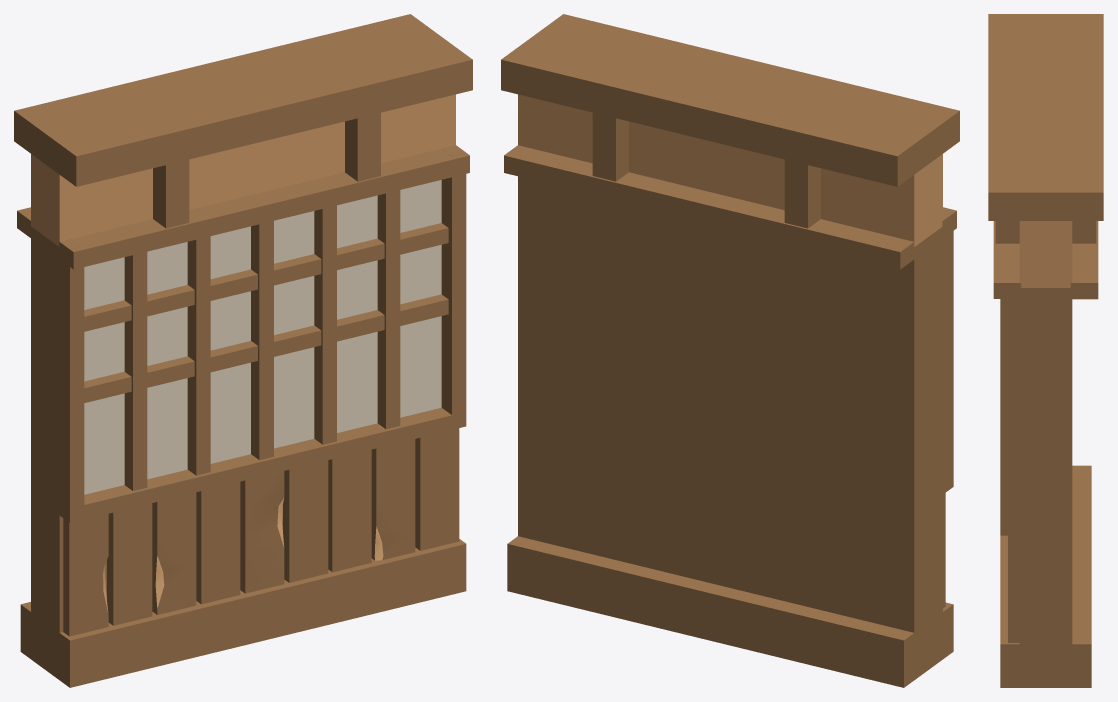
Rendered from Shoji (1).fbx.
3 views of the same model, side by side, from view 1: azimuth 30°, elevation 25°; view 2: azimuth 150°, elevation 25°; view 3: azimuth 270°, elevation 25° (orthographic). The views are drawn at different scales.
Parts seen in each view (by area): view 1: Wall_Shoji; view 2: Wall_Shoji; view 3: Wall_Shoji.
Part boxes in pixels (x1,y1,x2,y2): Wall_Shoji: (14,14,472,687); Wall_Shoji: (501,14,959,687); Wall_Shoji: (988,14,1103,687).
Size of the model in its own units: 400 by 517 by 109.
